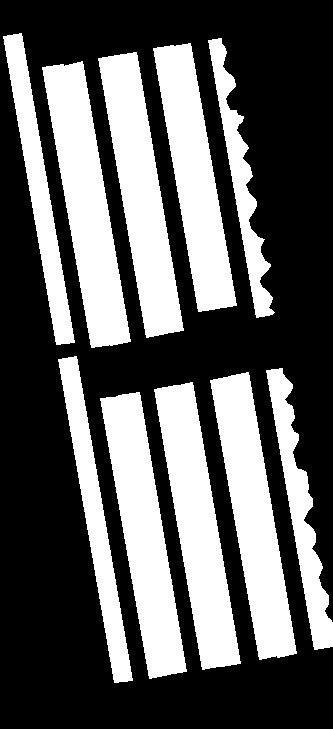parkingspot: (58, 356, 132, 682), (3, 33, 74, 344), (42, 64, 112, 347), (154, 385, 223, 669), (100, 396, 169, 678), (228, 372, 296, 657), (62, 61, 130, 345), (210, 376, 278, 659), (98, 55, 166, 337), (118, 392, 186, 674), (173, 382, 240, 666), (116, 52, 183, 333), (266, 368, 333, 649), (208, 38, 274, 317), (153, 45, 218, 311), (172, 43, 236, 308)
